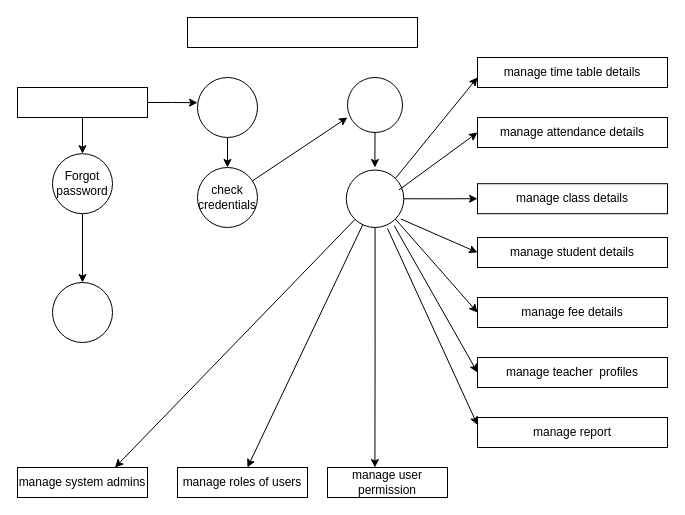
The diagram is 685 pixels wide and 515 high, and some of its shapes have lost their labels. Here are the shapes that lost their labels. From the top down, the centre of each, then its label:
At [302,32]: "Student information System".
At [82,102]: "Admin".
At [227,107]: "login to system".
At [374,104]: "check roles of access".
At [374,198]: "manage modules".
